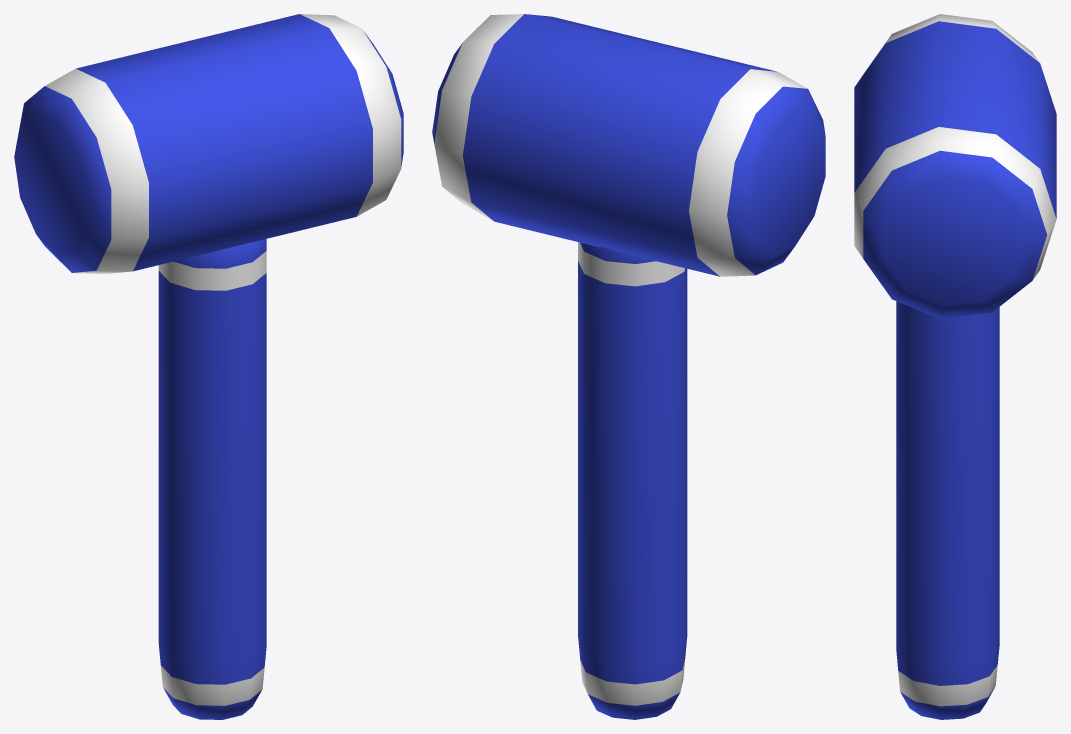
File: inflatablehammer 1.fbx
The picture shows the model from 3 angles, left to right: view 1: azimuth 30°, elevation 25°; view 2: azimuth 150°, elevation 25°; view 3: azimuth 270°, elevation 25°; orthographic projection. The views are drawn at different scales.
Parts seen in each view (by area): view 1: Cylinder.001; view 2: Cylinder.001; view 3: Cylinder.001.
Part boxes in pixels (x1=…): Cylinder.001: x1=14, y1=14, x2=403, y2=719; Cylinder.001: x1=432, y1=14, x2=825, y2=719; Cylinder.001: x1=854, y1=14, x2=1056, y2=719.
Size of the model in its own units: 178 by 349 by 101.
